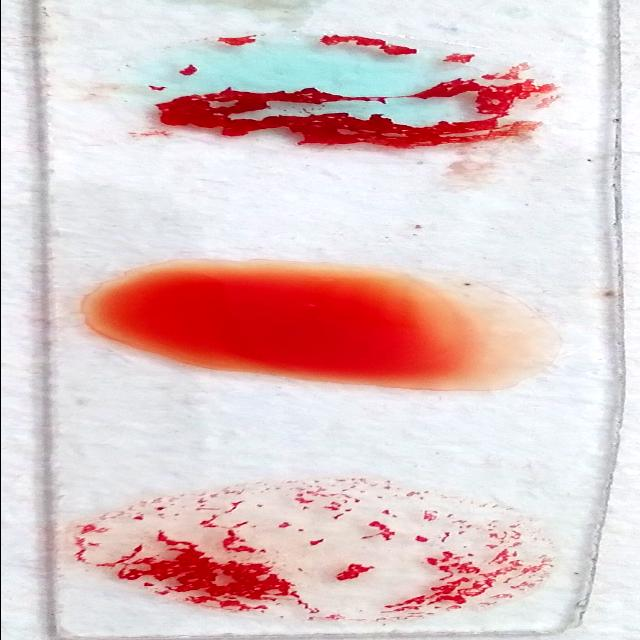A: (116, 30, 548, 146)
D: (78, 482, 546, 616)
